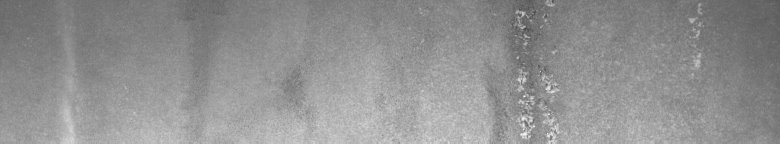hc: (504, 4, 620, 136)
